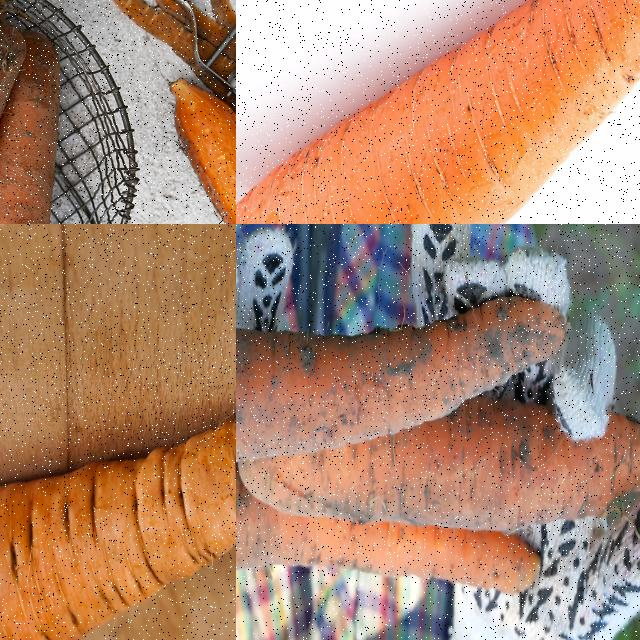carrot: (236, 0, 639, 223), (0, 295, 235, 639), (238, 392, 639, 540), (236, 291, 572, 466), (236, 460, 547, 598), (0, 26, 60, 223), (165, 77, 235, 223)
